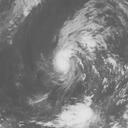cyclone: (50, 46, 92, 87)
